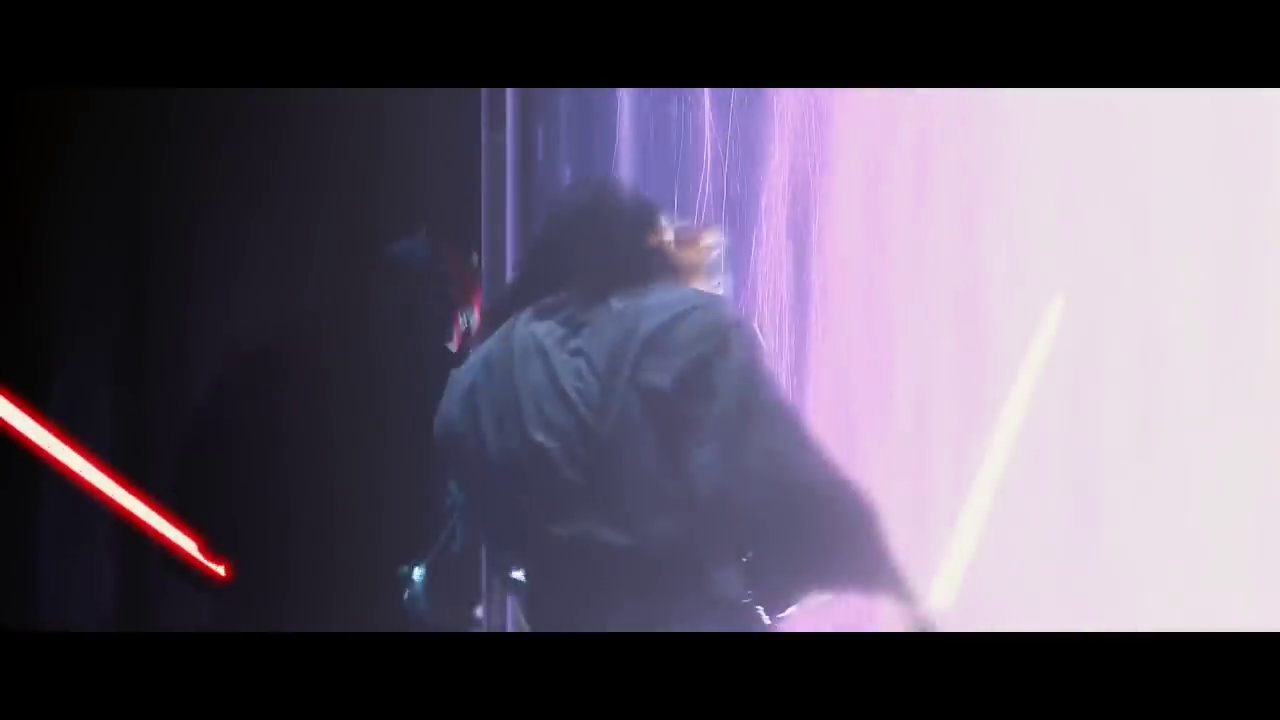lightsaber: (1, 394, 240, 580)
